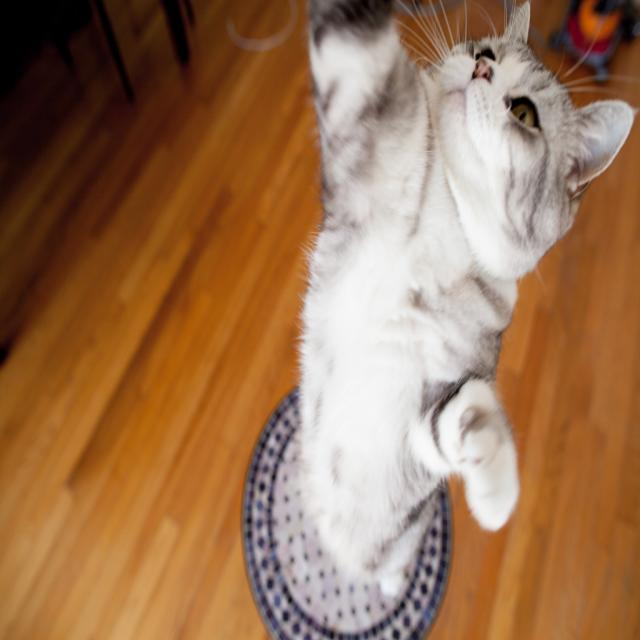Cat: (291, 0, 637, 600)
